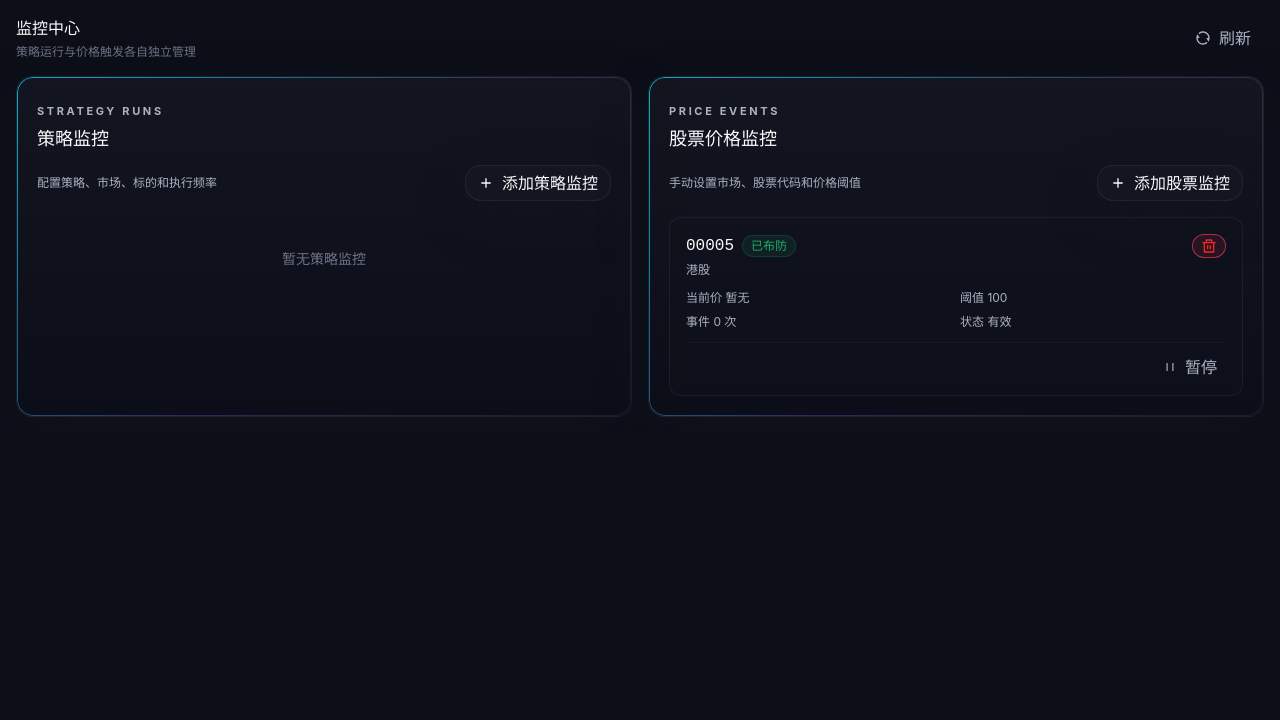
Test: MarketMonitor › shows an action error when pausing a stock monitor fails
The image size is (1280, 720).
Click the button with aria-label "暂停 00005". click: coordinates (1190, 367)
box: top-left (1154, 355), bottom-right (1226, 379)
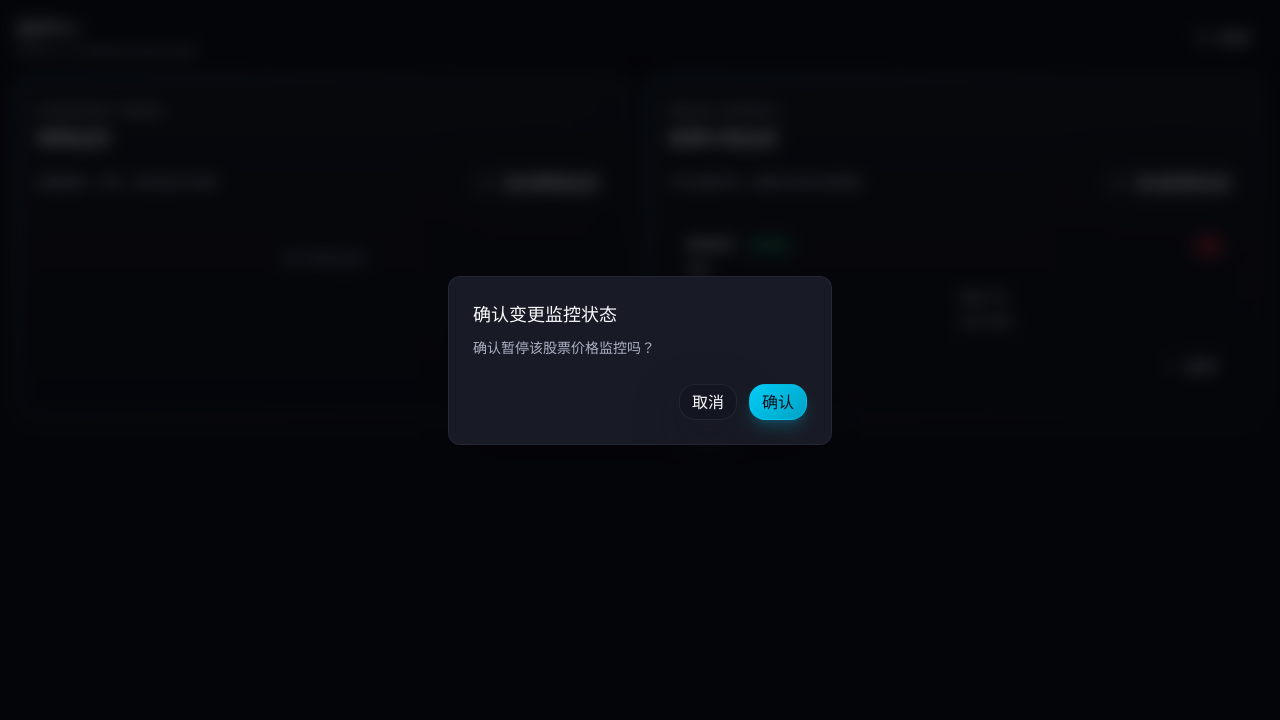
Click the button "确认". click: coordinates (778, 401)
box: top-left (749, 383), bottom-right (807, 419)
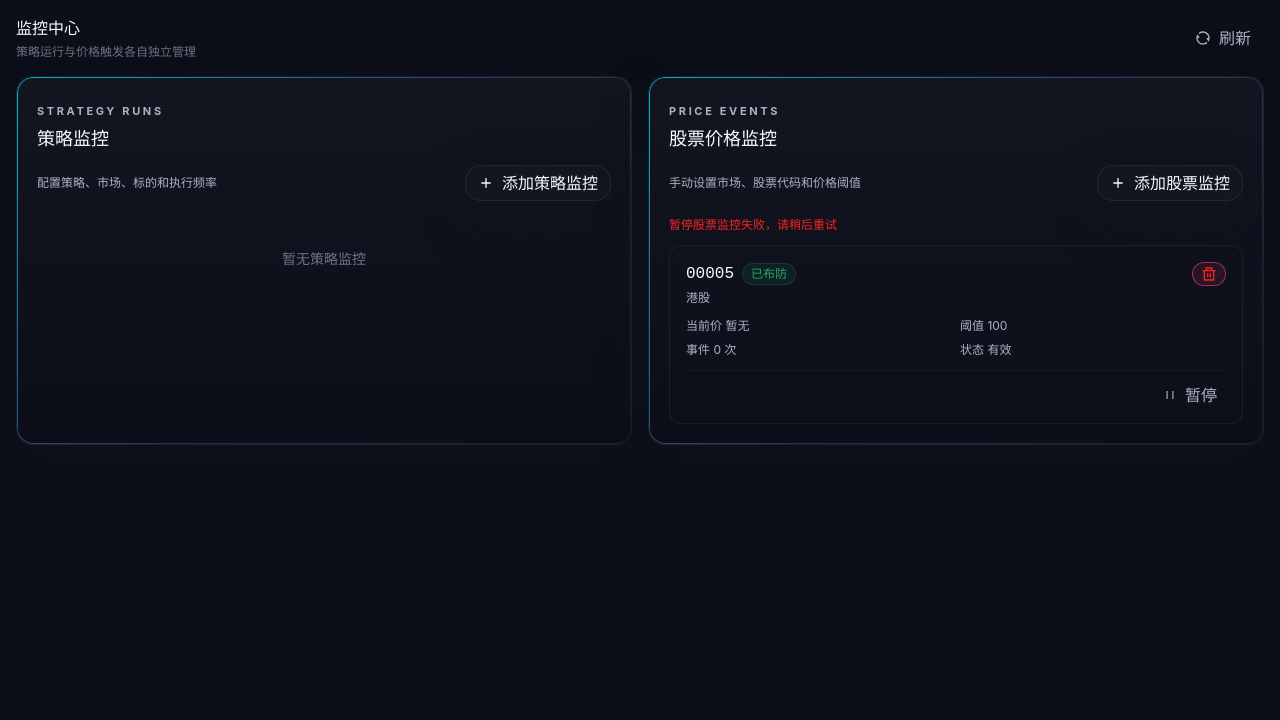
Expected: the message shows "暂停股票监控失败", top-left (669, 217), bottom-right (837, 232)
